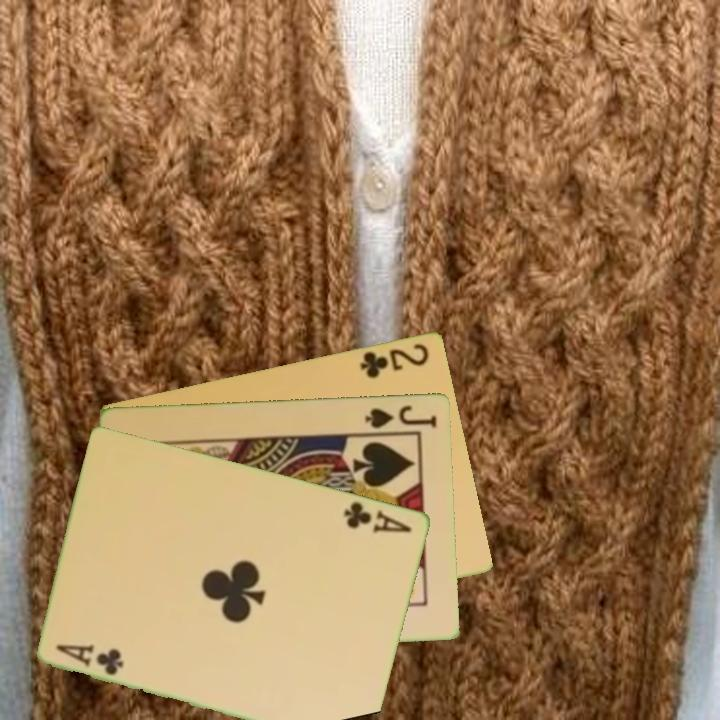2c: (357, 339, 432, 381)
Ac: (340, 498, 415, 536), (53, 640, 127, 678)
Js: (362, 401, 441, 431)
